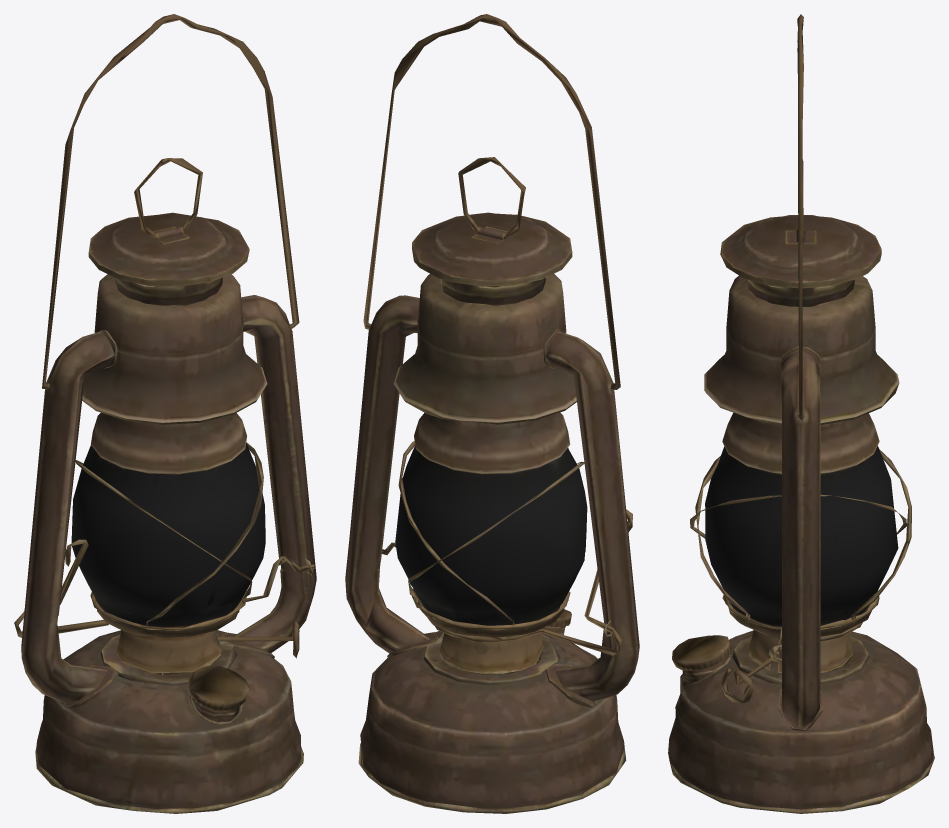
The model's file is Lantern_01.light.glb.
3 views of the same model, side by side, from view 1: azimuth 30°, elevation 25°; view 2: azimuth 150°, elevation 25°; view 3: azimuth 270°, elevation 25° (orthographic).
Parts seen in each view (by area): view 1: Lantern_01, Lantern_01_glass; view 2: Lantern_01, Lantern_01_glass; view 3: Lantern_01, Lantern_01_glass.
Boxes of the visible parts, x1,y1,x2,y2 form: Lantern_01: (14, 14, 316, 813); Lantern_01_glass: (71, 443, 265, 627); Lantern_01: (345, 14, 639, 813); Lantern_01_glass: (395, 445, 587, 625); Lantern_01: (668, 14, 934, 813); Lantern_01_glass: (705, 446, 898, 626).
Size of the model in its own units: 2 by 4.82 by 1.57.
Materials: 2 (2 with a texture image).
